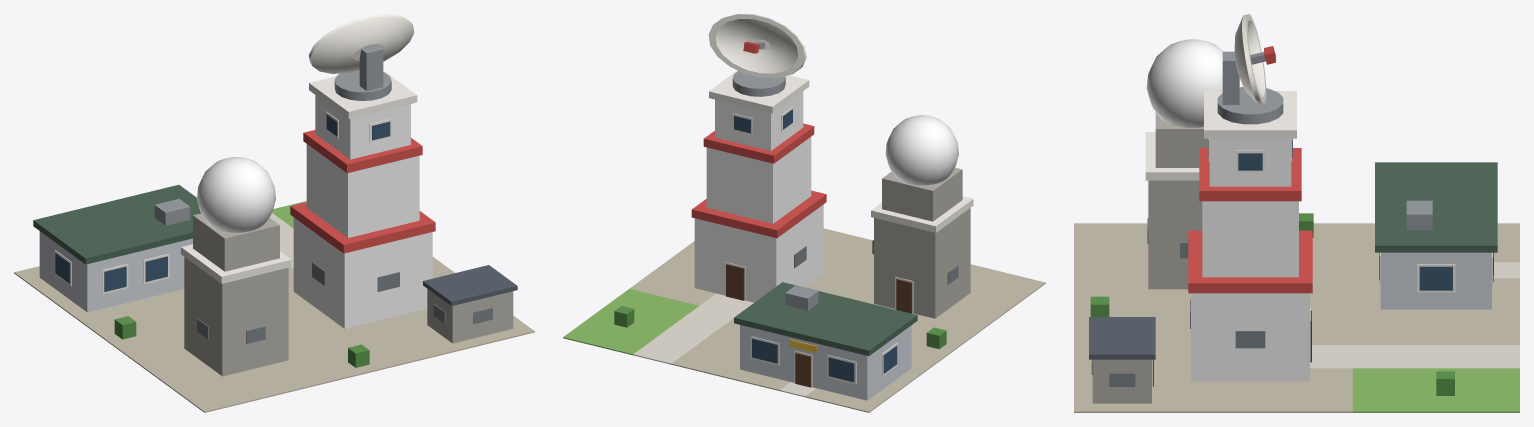
The model's file is radar.glb.
3 renders of one model, left to right at view 1: azimuth 30°, elevation 25°; view 2: azimuth 150°, elevation 25°; view 3: azimuth 270°, elevation 25°, orthographic. The views are drawn at different scales.
Visible parts, largest first — view 1: gravel_yard, tower_block (×3), radome_tower (×2), roof (×2), tower_band (×3), ops_building, radome, radar_dish, generator_shed, tower_cap, turntable, dish_mast (+3 smaller); view 2: tower_block (×3), gravel_yard, radome_tower (×2), roof, ops_building, tower_band (×3), radar_dish, lawn, radome, path, tower_cap, door (×3) (+3 smaller); view 3: gravel_yard, tower_block (×3), roof (×2), radome_tower (×2), lawn, tower_band (×3), path (×2), ops_building, radome, tower_cap, generator_shed, radar_dish (+6 smaller).
Part boxes in pixels (x1,y1,x2,y2): gravel_yard: (14,257,534,412); tower_block (×3): (293,95,432,328); radome_tower (×2): (184,213,288,376); roof (×2): (33,184,517,306); tower_band (×3): (181,130,435,283); ops_building: (39,231,192,312); radome: (197,157,275,232); radar_dish: (308,14,414,73); generator_shed: (427,289,513,343); tower_cap: (309,70,417,118); turntable: (334,70,391,100); dish_mast: (359,45,383,90); tower_block (×3): (694,91,823,302); gravel_yard: (629,228,1045,412); radome_tower (×2): (874,167,970,318); roof: (734,282,917,355); ops_building: (740,325,911,400); tower_band (×3): (691,123,973,238); radar_dish: (708,14,806,77); lawn: (563,289,698,355); radome: (885,115,958,185); path: (633,293,753,364); tower_cap: (709,70,809,113); door (×3): (726,264,911,387); gravel_yard: (1074,223,1519,412); tower_block (×3): (1191,138,1309,381); roof (×2): (1089,162,1497,359); radome_tower (×2): (1148,112,1208,289); lawn: (1352,368,1519,412); tower_band (×3): (1145,132,1312,293); path (×2): (1310,262,1519,368); ops_building: (1380,252,1491,309); radome: (1146,39,1223,127); tower_cap: (1204,91,1296,138); generator_shed: (1092,359,1151,403); radar_dish: (1234,14,1266,104).
Bounding box in the file's own units: 24 × 19.78 × 24.
